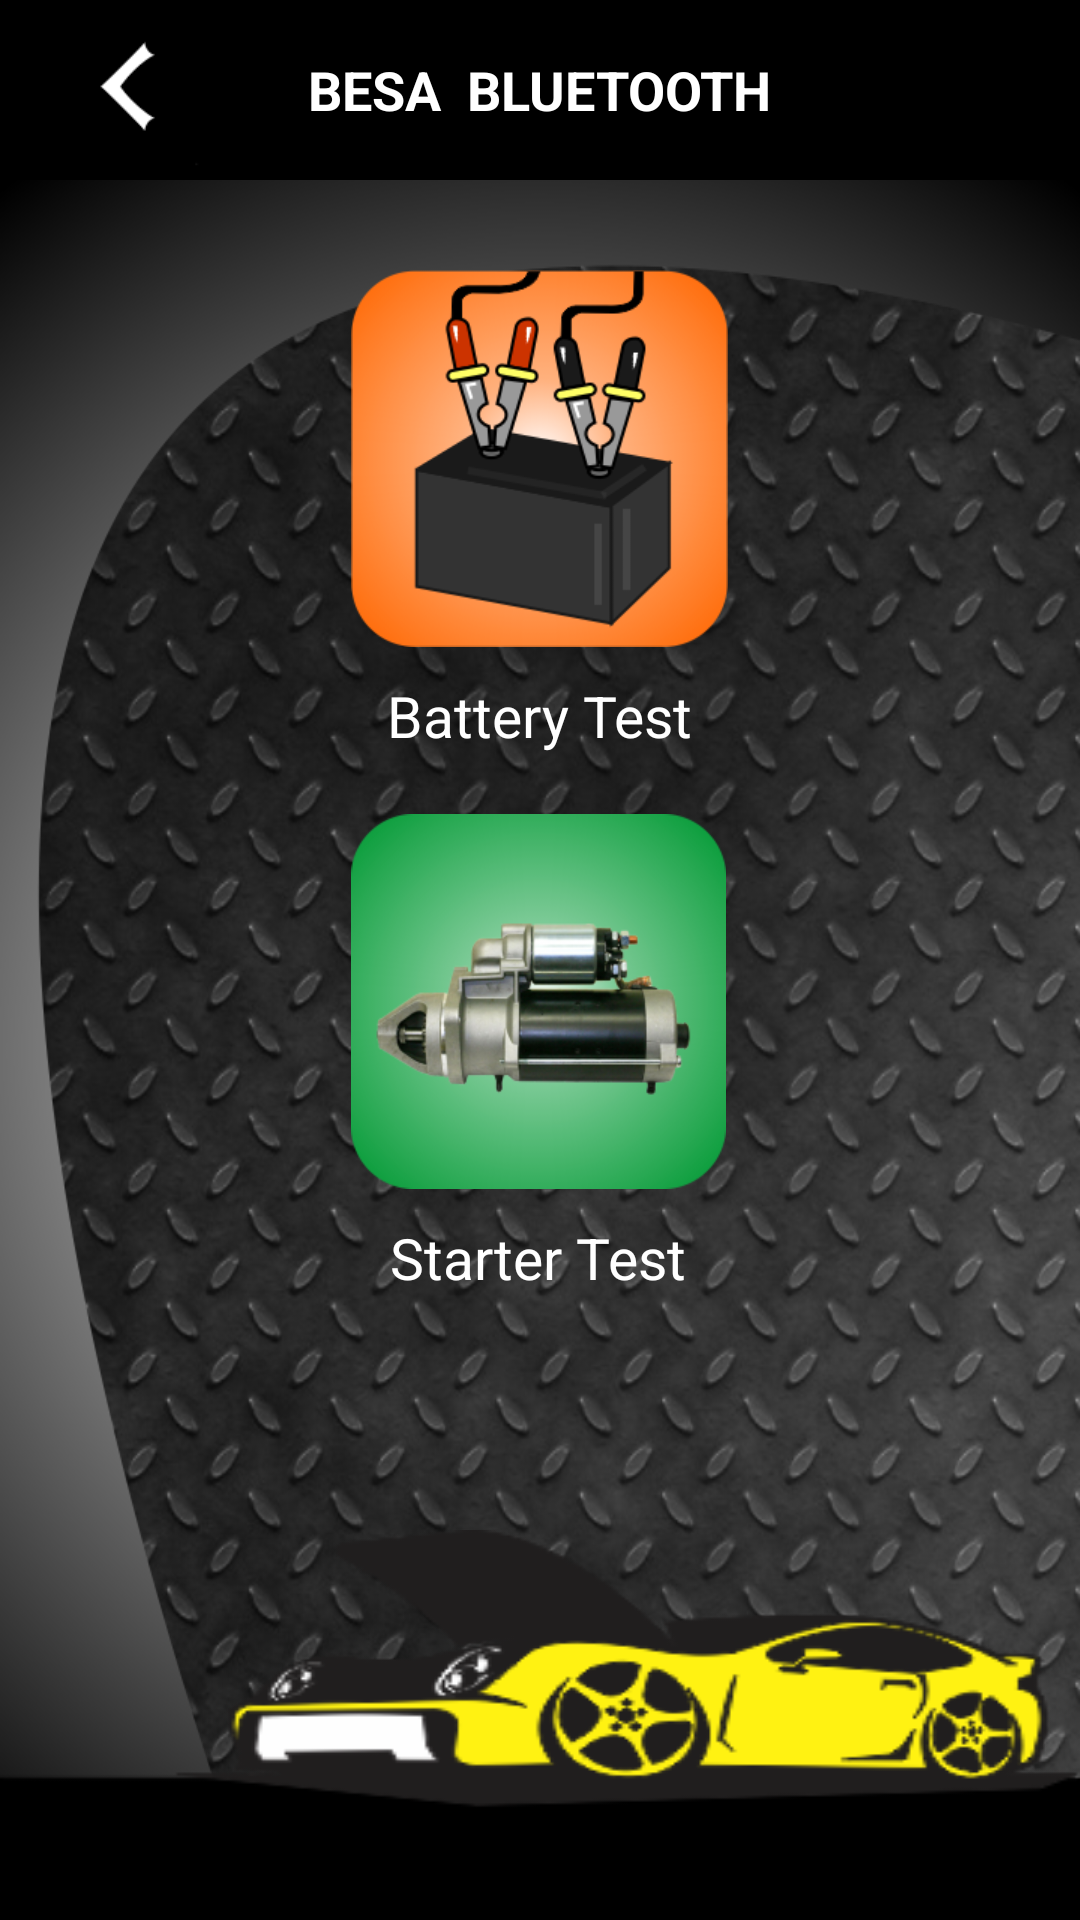

Named icons in this screenshot (1080w x 1920h) and their bounding boxes, {"left": x1, "top": y1, "right": x2, "bottom": y2}:
back: {"left": 100, "top": 42, "right": 155, "bottom": 131}
